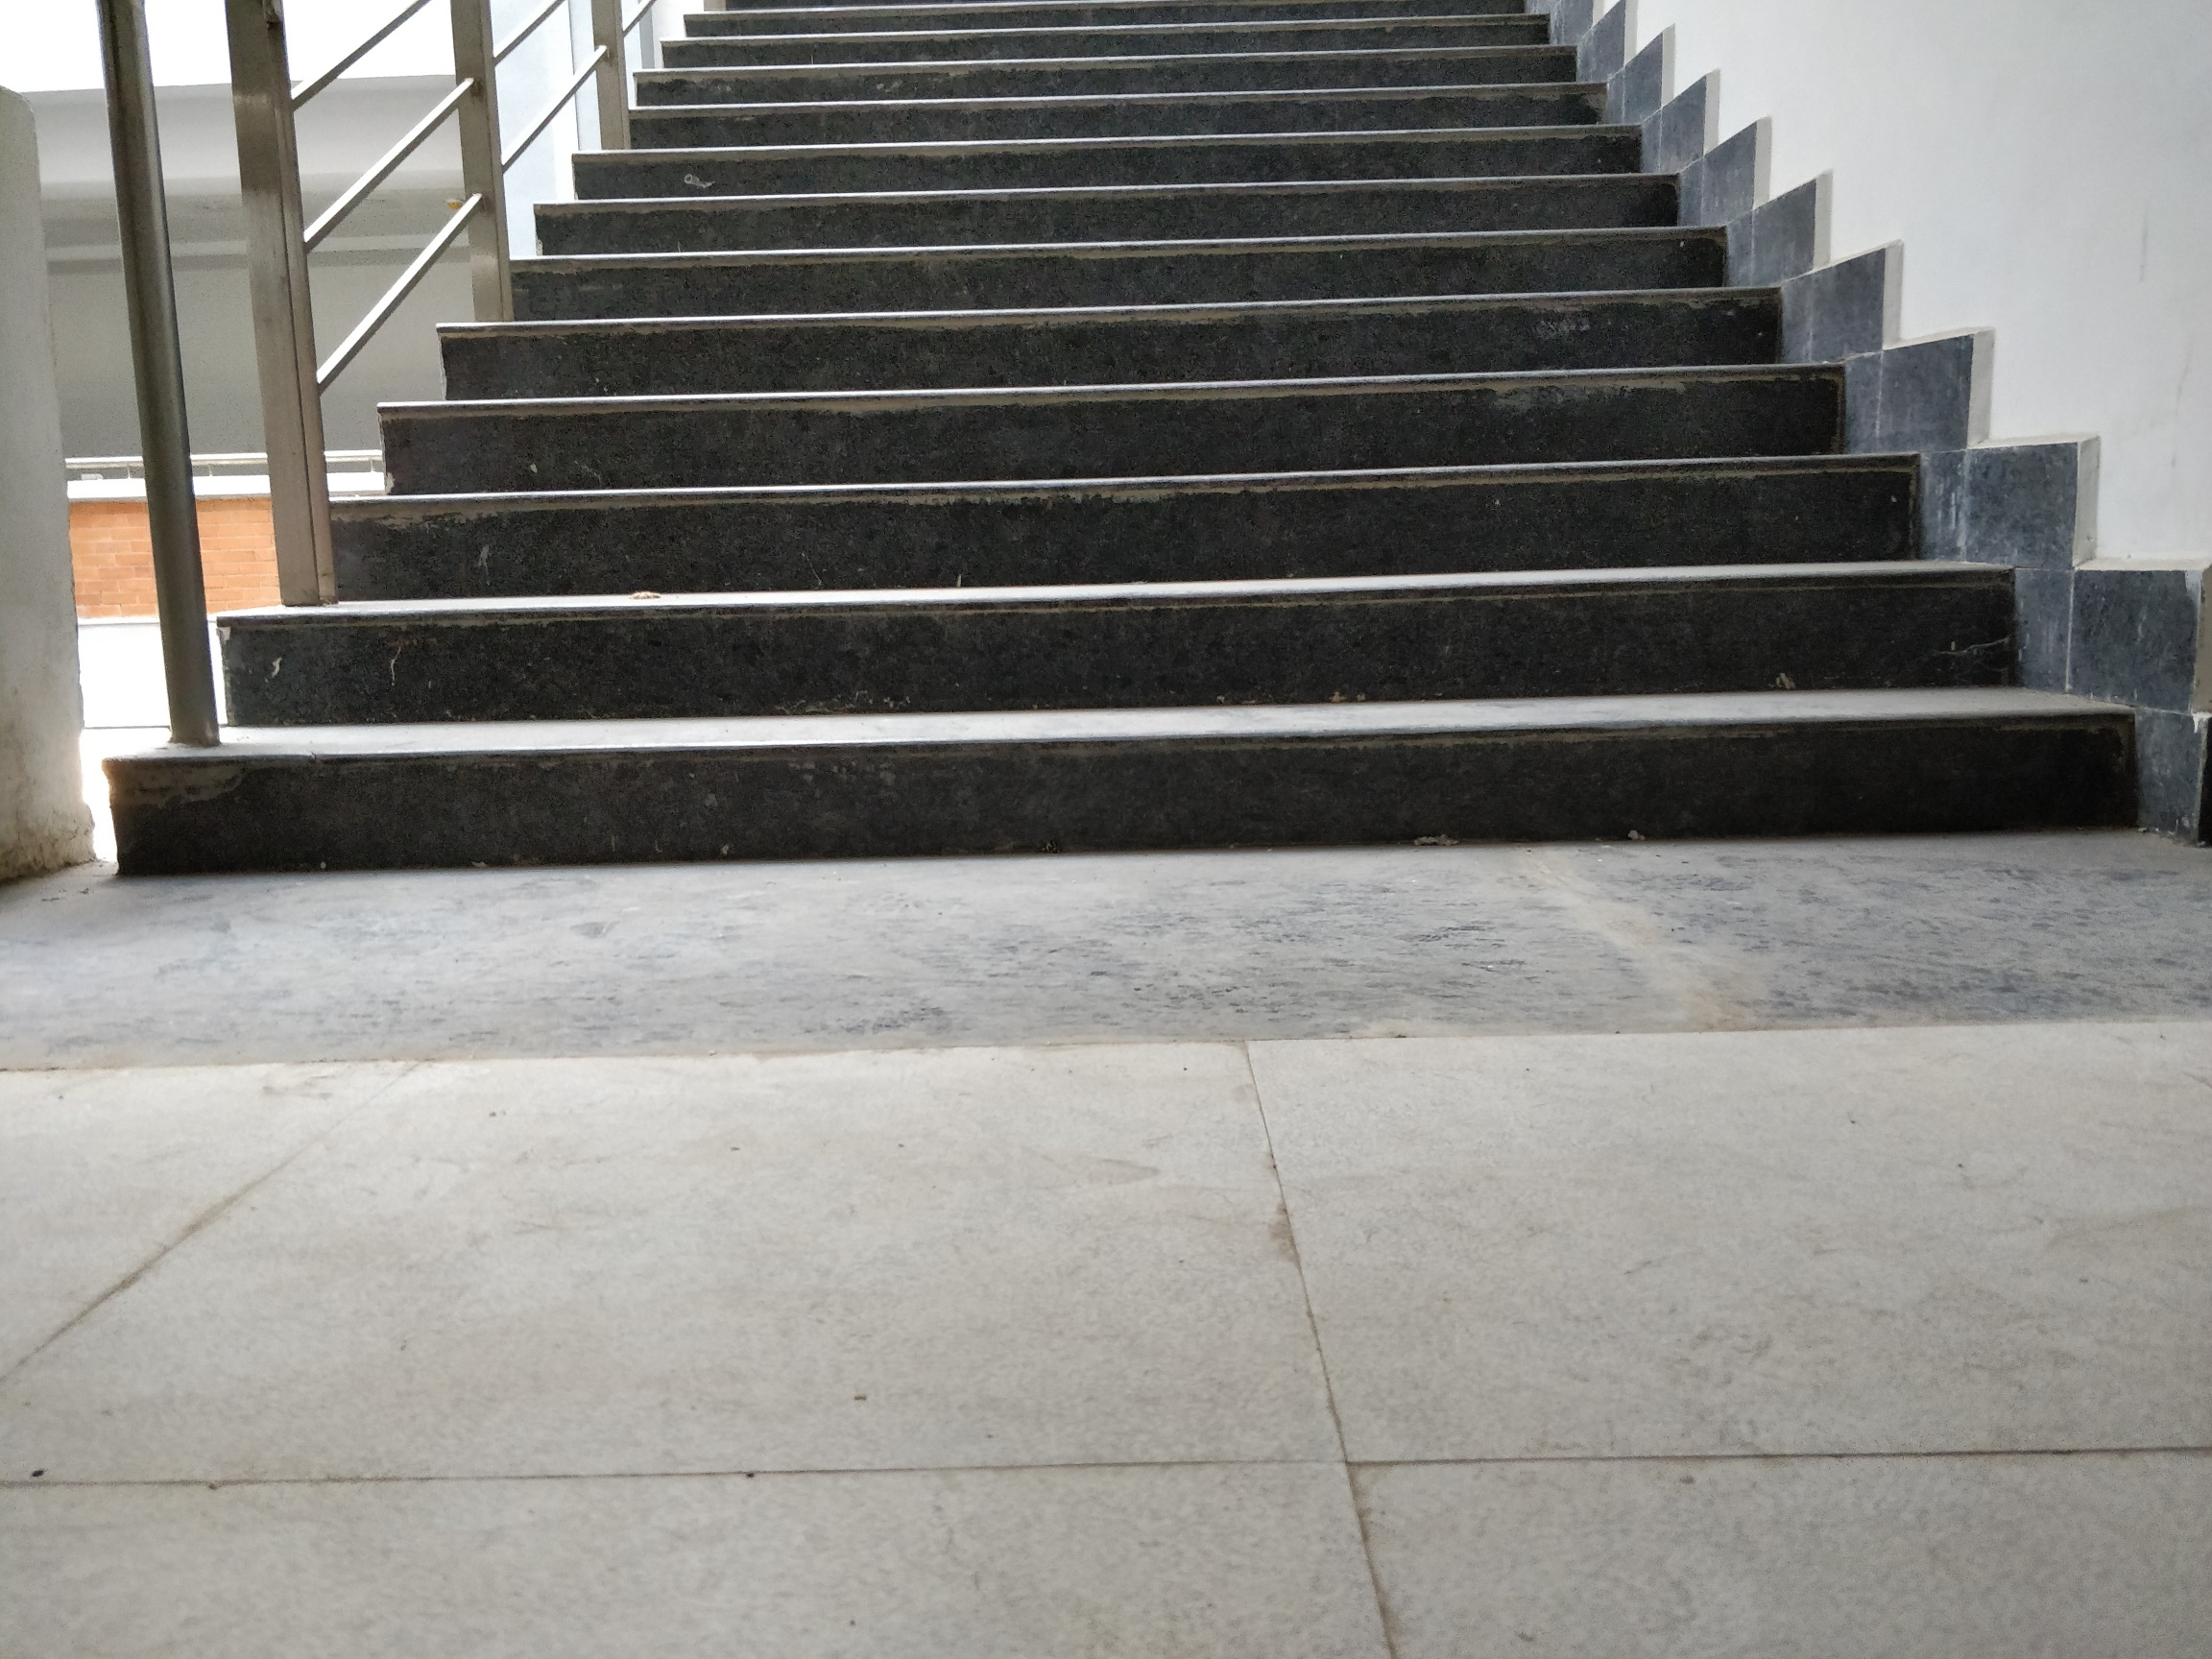stairs_up: (139, 31, 2083, 866)
